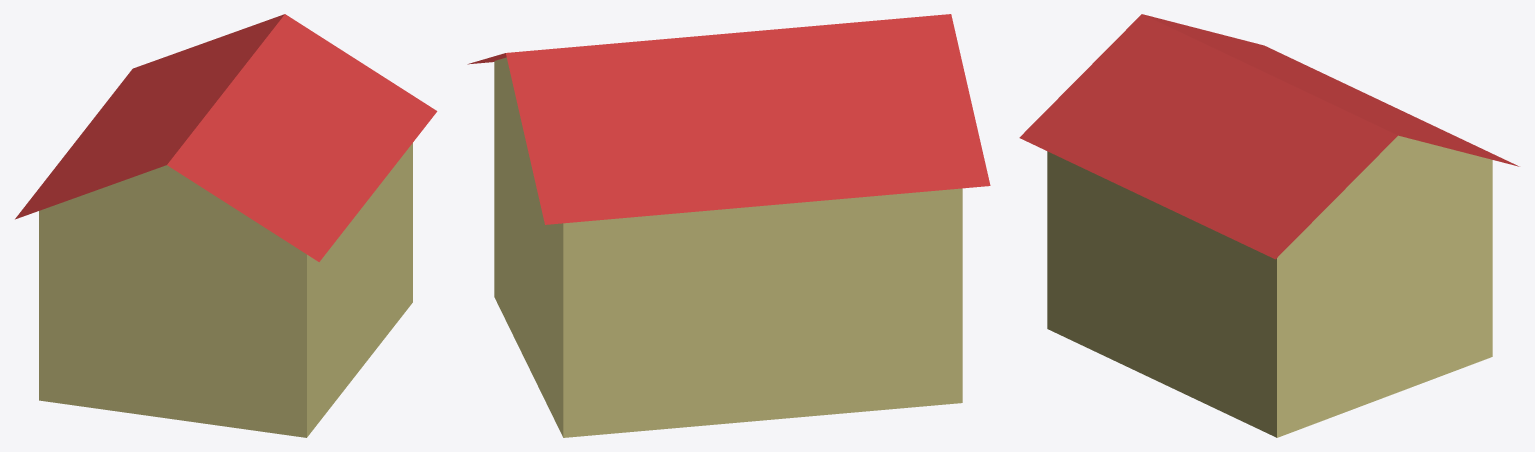
3 views of the same model, side by side, from view 1: azimuth 30°, elevation 25°; view 2: azimuth 150°, elevation 25°; view 3: azimuth 270°, elevation 25° (orthographic). The views are drawn at different scales.
Visible parts, largest first — view 1: group_5, group_3; view 2: group_5, group_3, group_4; view 3: group_5, group_3.
Boxes of the visible parts, box(x1,y1,x2,y2) form: group_5: box(39, 143, 412, 437); group_3: box(15, 14, 437, 261); group_5: box(494, 57, 962, 437); group_3: box(506, 14, 990, 224); group_4: box(467, 51, 542, 109); group_5: box(1047, 135, 1492, 437); group_3: box(1019, 14, 1519, 259).
Bounding box in the file's own units: 18.98 × 18.81 × 11.09.
